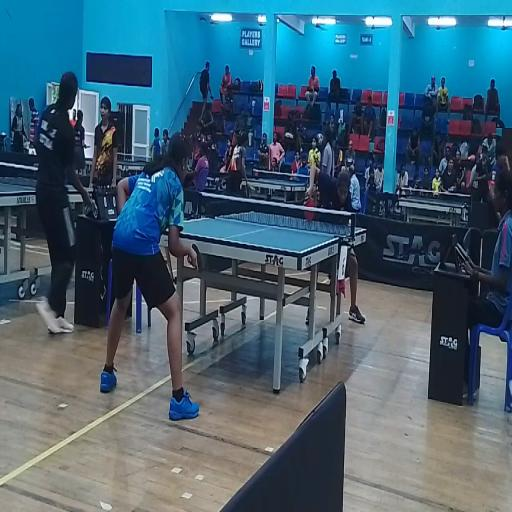ball: (349, 219, 352, 225)
